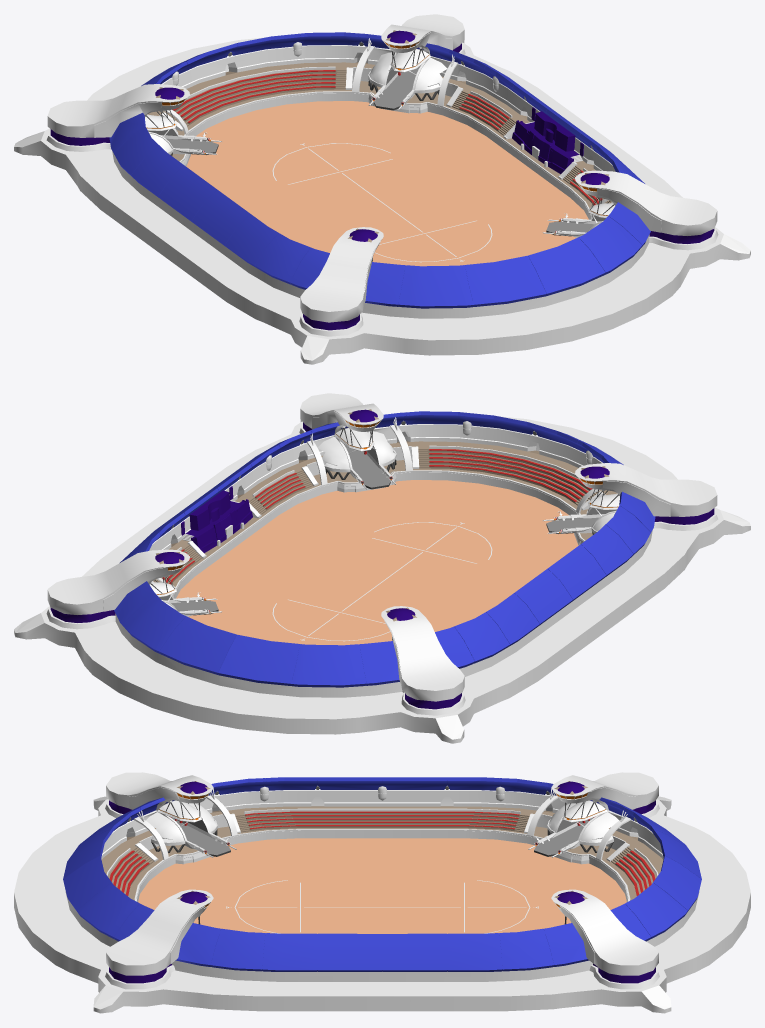
File: Field.FBX
3 views of the same model, one above another, from view 1: azimuth 30°, elevation 25°; view 2: azimuth 150°, elevation 25°; view 3: azimuth 270°, elevation 25° (orthographic). The views are drawn at different scales.
Parts seen in each view (by area): view 1: Field; view 2: Field; view 3: Field.
Part boxes in pixels (bbox=[...]): Field: bbox=[14, 14, 750, 364]; Field: bbox=[14, 393, 750, 743]; Field: bbox=[14, 772, 750, 1013].
Size of the model in its own units: 15320 by 2293 by 22499.
